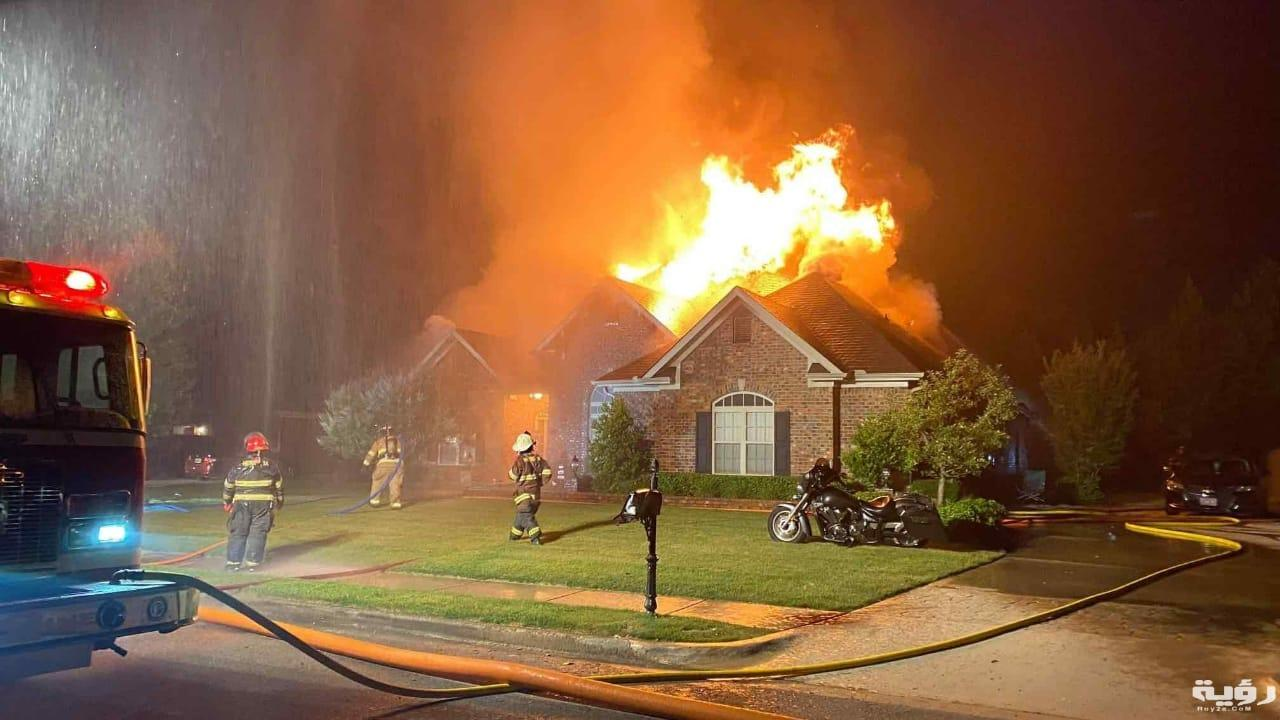Fire: (607, 122, 905, 345)
